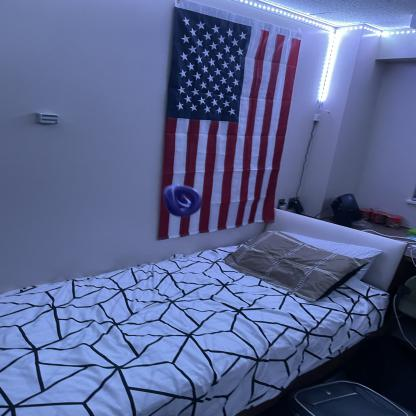ring: (163, 186, 201, 216), (167, 186, 201, 212)
